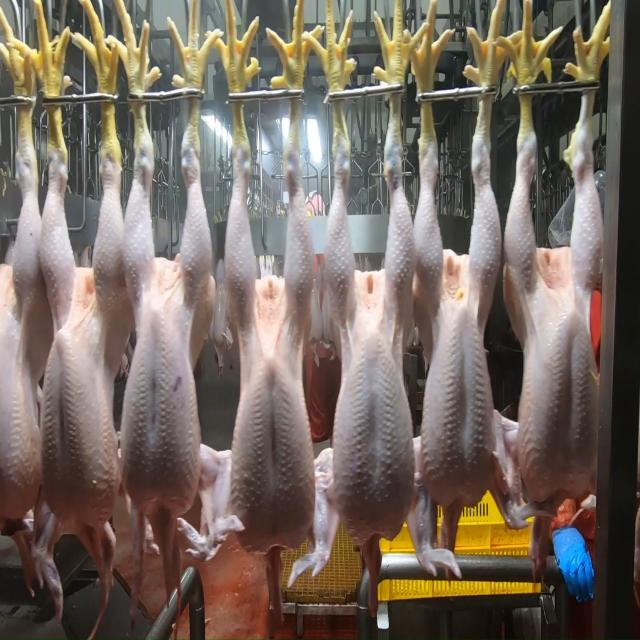chicken: (224, 142, 319, 577), (324, 134, 417, 552), (31, 154, 130, 541), (508, 136, 603, 504), (121, 136, 202, 535), (413, 144, 502, 506), (0, 112, 46, 521)
